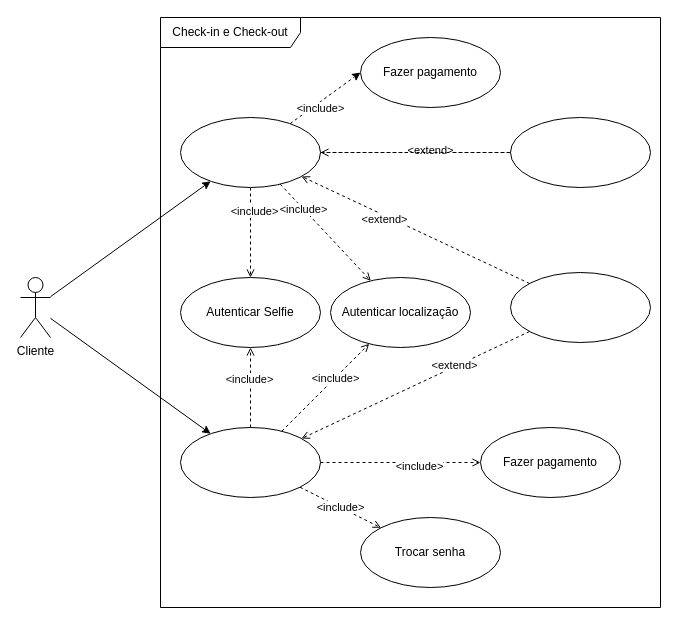
The diagram is 678 pixels wide and 625 high, and some of its shapes have lost their labels. Here are the shapes that lost their labels. From the top down, the centre of each, then its label:
At (x=250, y=152): "Check-in".
At (x=580, y=152): "Gerar senha".
At (x=580, y=307): "Entregar chave".
At (x=250, y=462): "Check-out".
